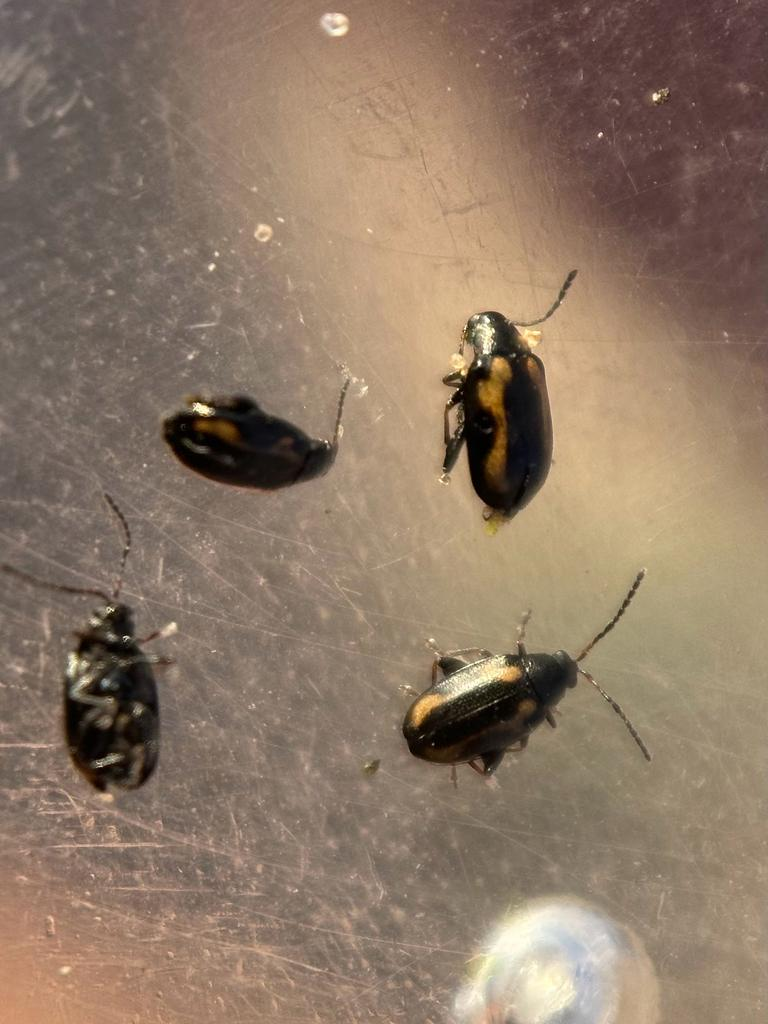flea_beetle: (361, 537, 678, 838), (0, 477, 226, 832), (388, 233, 603, 554), (145, 324, 374, 518)
